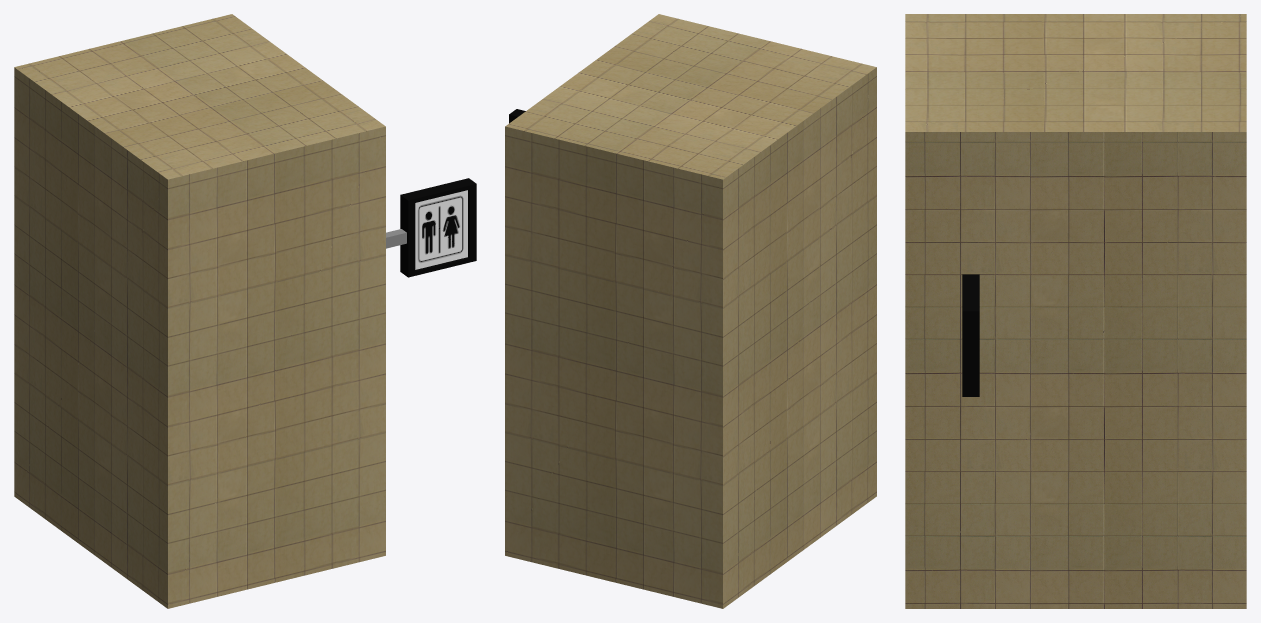
File: petit panneau.fbx
3 views of the same model, side by side, from view 1: azimuth 30°, elevation 25°; view 2: azimuth 150°, elevation 25°; view 3: azimuth 270°, elevation 25° (orthographic). The views are drawn at different scales.
Parts seen in each view (by area): view 1: wall, sign; view 2: wall; view 3: wall, sign.
Part boxes in pixels (<box>): wall: <box>14,14,385,608</box>; sign: <box>386,178,476,277</box>; wall: <box>505,14,876,608</box>; wall: <box>905,14,1246,608</box>; sign: <box>962,274,979,396</box>.
Bounding box in the file's own units: 19.74 × 24.21 × 15.71.
4 materials, 2 textured.
